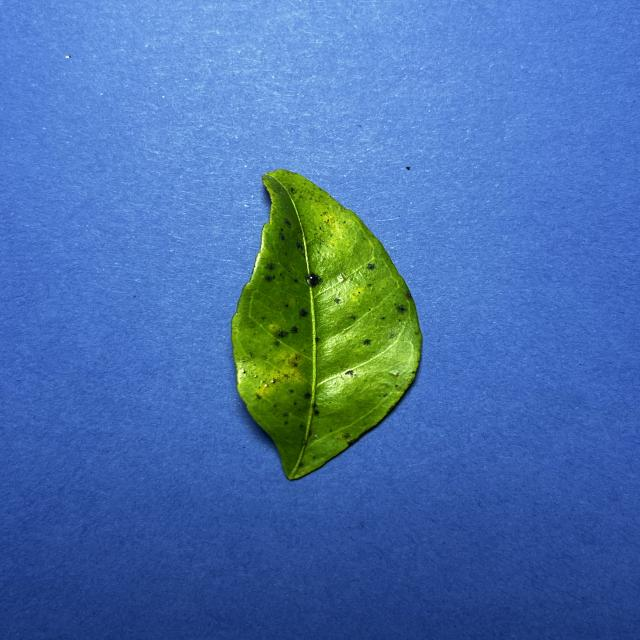sooty_mold: (232, 170, 422, 479)
